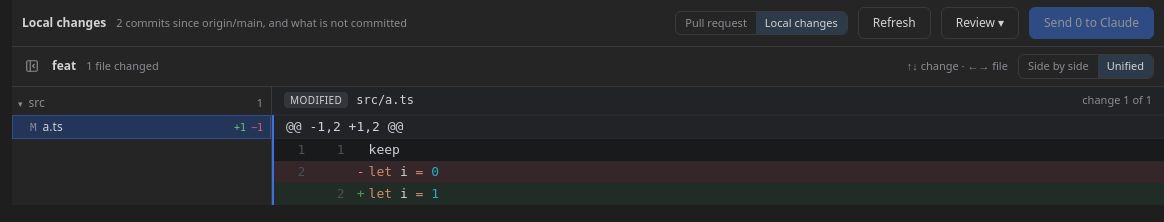
ReviewView › passes on what gh says when it cannot reach GitHub
The width and height of the screenshot is (1164, 222).
Check: the button "Local changes" is shown, box [756,12,847,34]
Step 1. Click the button "Pull request" → {"x": 716, "y": 23}, box [676,12,756,34]
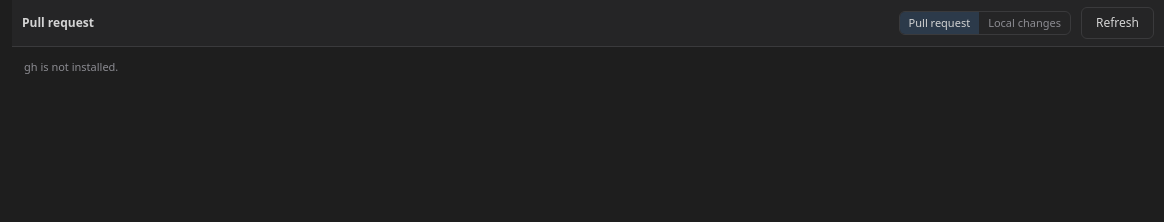
Check: the text "gh is not installed." is shown, box [24,59,118,74]
